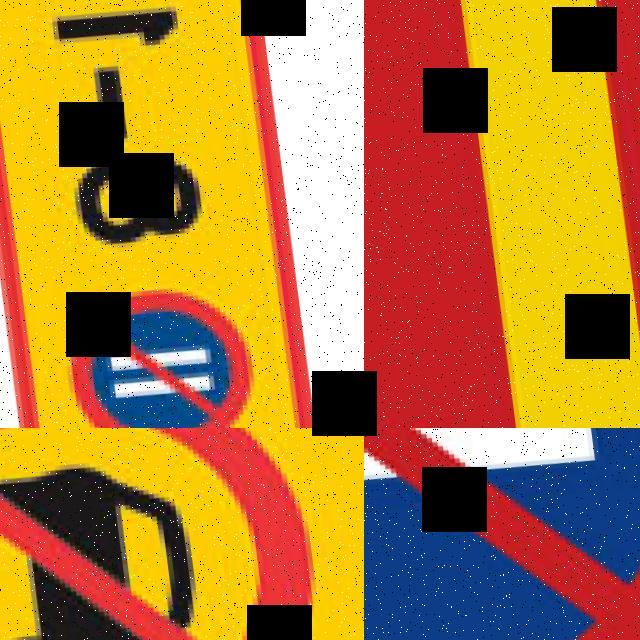181: (0, 0, 329, 428)
29: (364, 428, 640, 640)
32: (364, 0, 640, 428)
No entry for motor vehicles: (0, 428, 364, 640)
